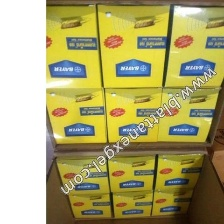book: (22, 1, 107, 91), (92, 0, 176, 91), (162, 0, 223, 88), (155, 81, 220, 145), (45, 83, 110, 146), (101, 82, 165, 145), (53, 151, 112, 197), (155, 150, 206, 192), (107, 152, 159, 192), (147, 181, 199, 217), (105, 183, 158, 218), (65, 184, 116, 220)
